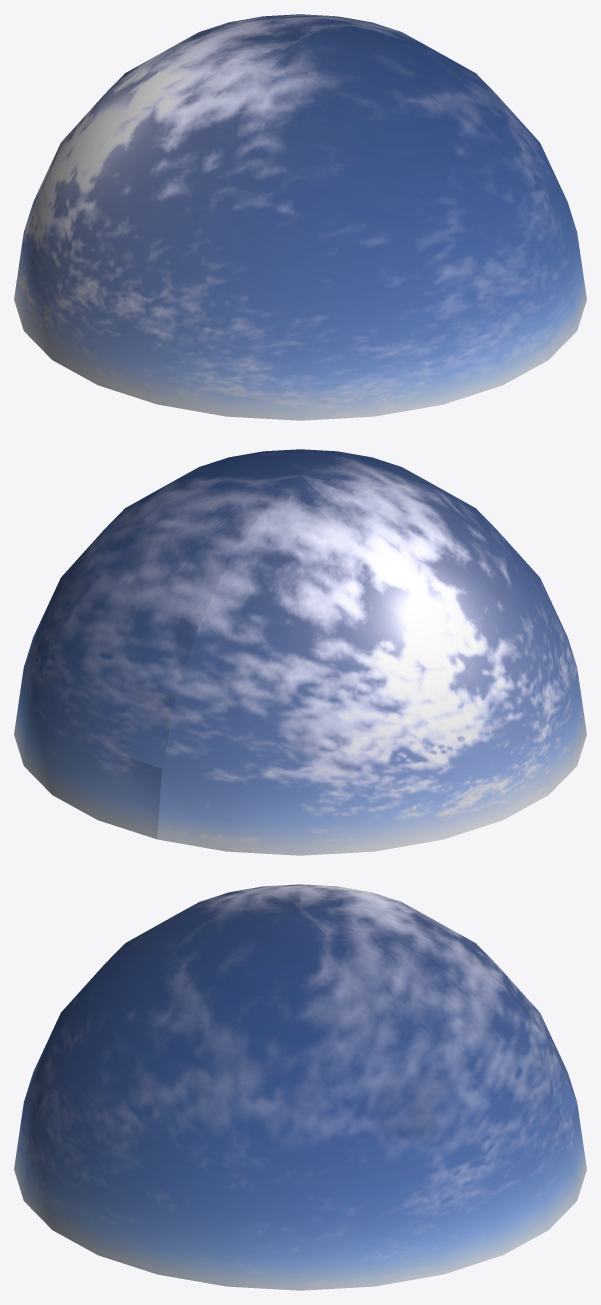
Rendered from skydome.obj.
The picture shows the model from 3 angles, top to bottom: view 1: azimuth 30°, elevation 25°; view 2: azimuth 150°, elevation 25°; view 3: azimuth 270°, elevation 25°; orthographic projection.
Parts seen in each view (by area): view 1: Skydome; view 2: Skydome; view 3: Skydome.
Part boxes in pixels (bbox=[...]): Skydome: bbox=[14, 14, 586, 420]; Skydome: bbox=[14, 449, 586, 855]; Skydome: bbox=[14, 884, 586, 1290].
Size of the model in its own units: 2 by 1 by 2.
